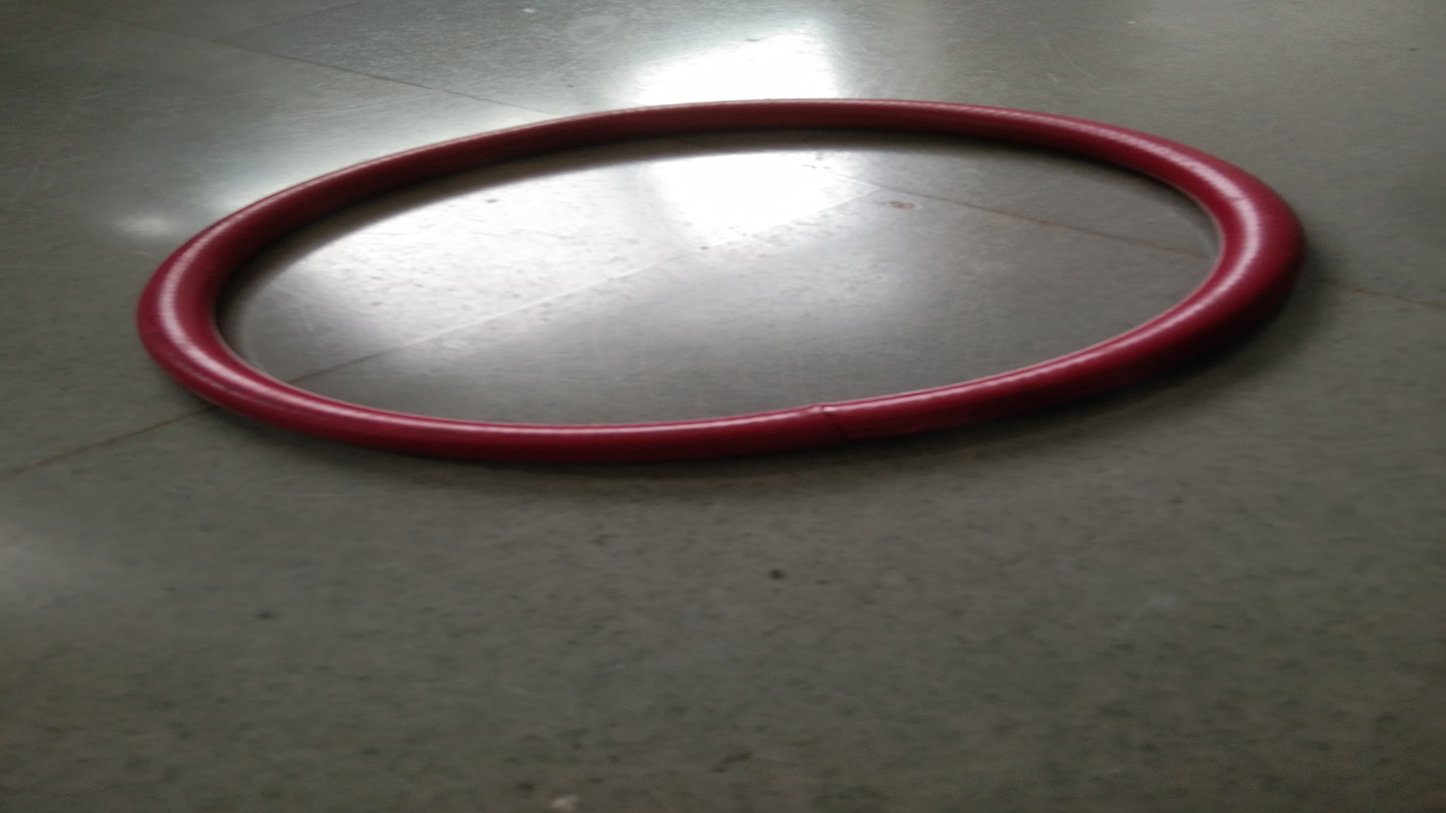Red ring: (134, 101, 1304, 467)
